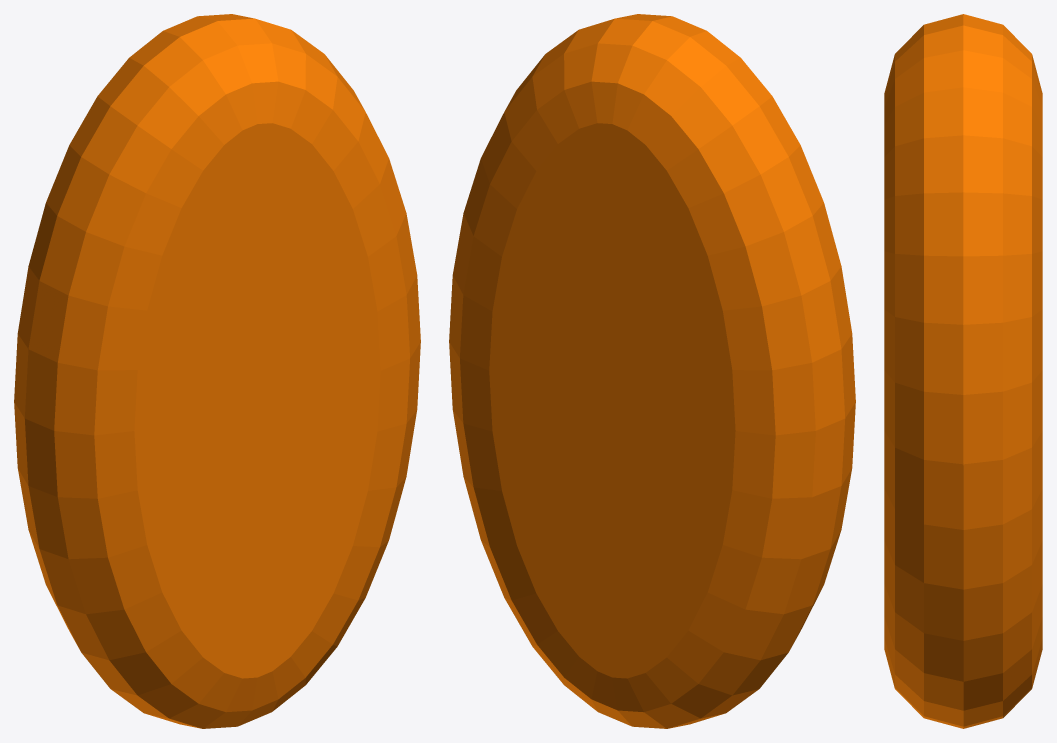
Rendered from gems_006.glb.
3 views of the same model, side by side, from view 1: azimuth 30°, elevation 25°; view 2: azimuth 150°, elevation 25°; view 3: azimuth 270°, elevation 25° (orthographic).
Parts seen in each view (by area): view 1: gems_006; view 2: gems_006; view 3: gems_006.
Boxes of the visible parts, bbox=[...] form: gems_006: bbox=[14, 14, 420, 728]; gems_006: bbox=[449, 14, 855, 728]; gems_006: bbox=[884, 14, 1042, 728].
Size of the model in its own units: 0.111 by 0.1928 by 0.04.
